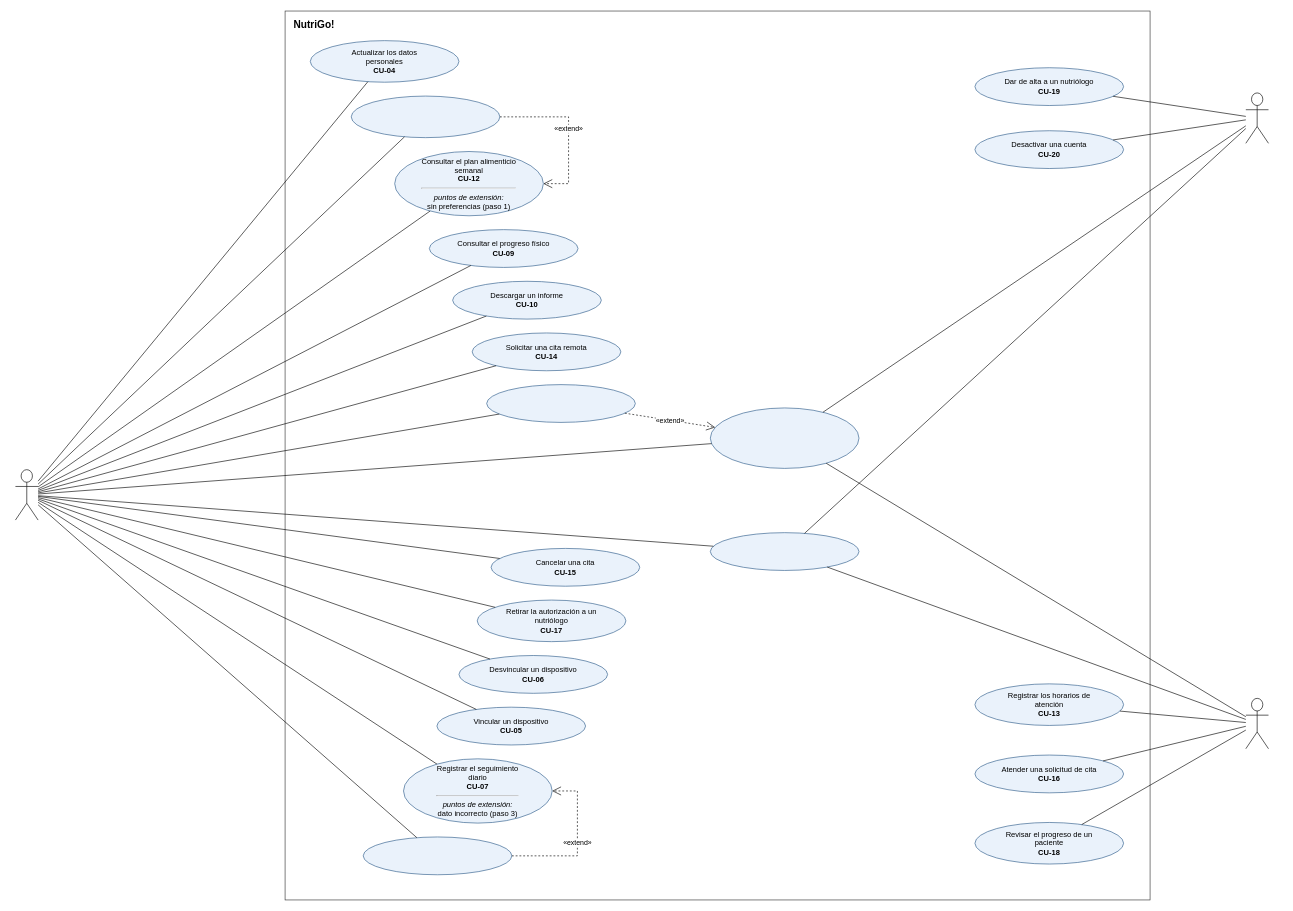
The diagram is 1293 pixels wide and 911 high, and some of its shapes have lost their labels. Here are the shapes that lost their labels. From the top down, the centre of each, then its label:
the point at 425,116: Configurar las preferencias alimenticias CU-11
the point at 1257,117: Administrador
the point at 560,403: Crear una cuenta CU-01
the point at 784,437: Iniciar sesión CU-02 puntos de extensión: sin cuenta (paso 4)
the point at 26,494: Paciente
the point at 784,551: Cerrar sesión CU-03
the point at 1257,723: Nutriólogo
the point at 437,855: Corregir un registro CU-08
